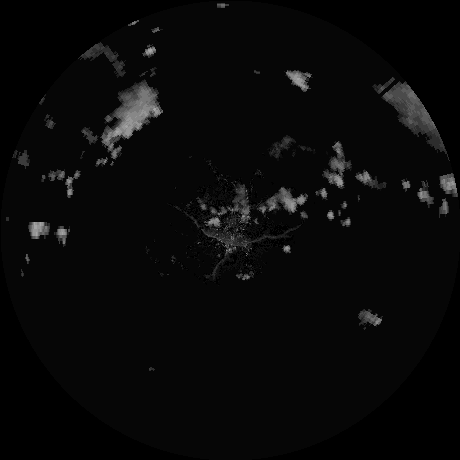frontgust: (185, 211, 280, 247)
